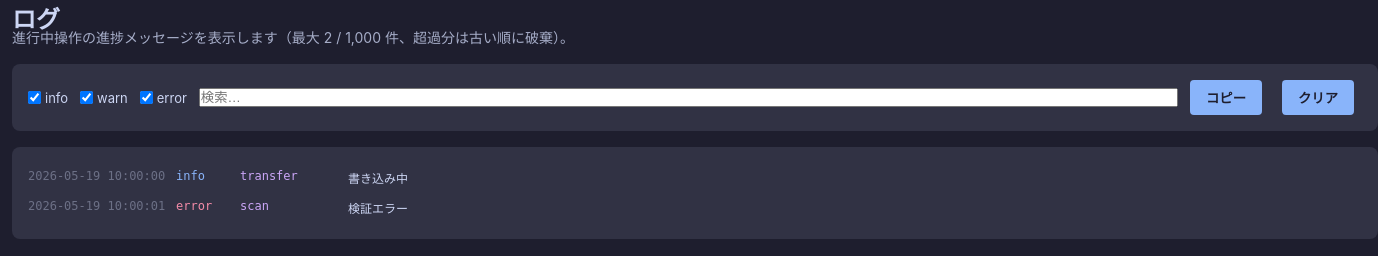
Scenario: LogsPage › フィルタで info を外すと info 行が消える
Click the checkbox labelled "info".
click(34, 98)  # box x1=28 y1=91 x2=41 y2=104
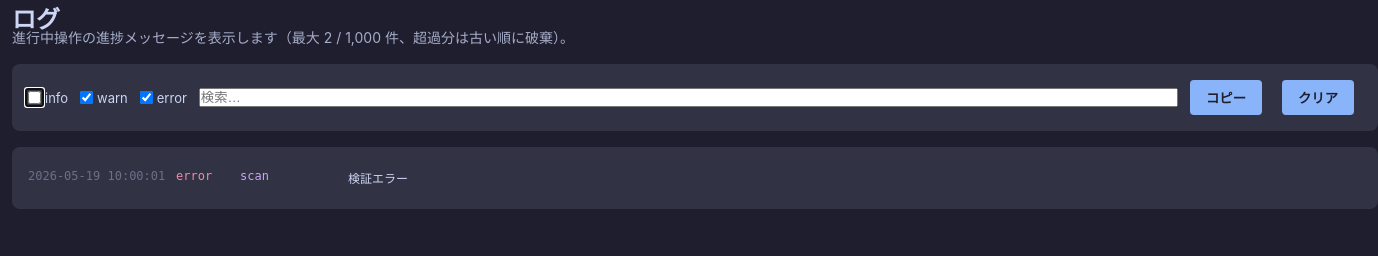
Expected: the text "検証エラー" is shown, x1=348 y1=172 x2=408 y2=186
Expected: the text "書き込み中" is gone
